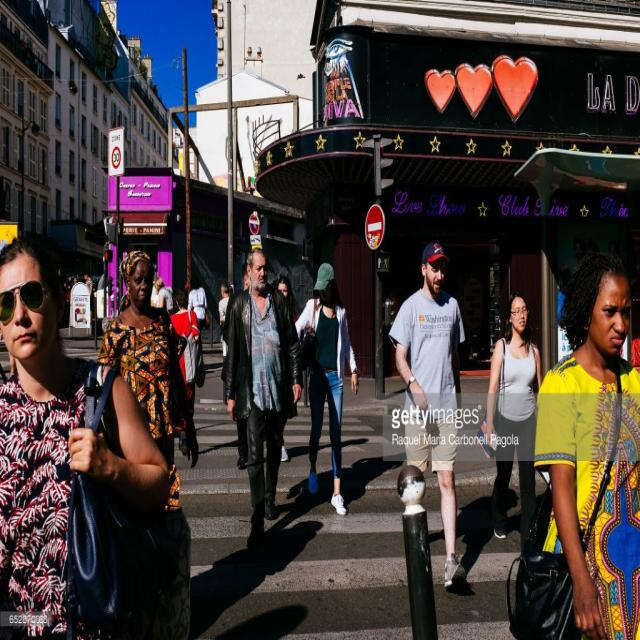body: (0, 235, 183, 640), (534, 250, 639, 639), (388, 240, 467, 587), (98, 249, 200, 510), (224, 246, 304, 551), (294, 262, 359, 516), (483, 290, 546, 542), (168, 286, 207, 459), (224, 260, 252, 470), (57, 264, 122, 339), (153, 276, 180, 354), (218, 278, 236, 368), (187, 272, 209, 332), (275, 273, 300, 324), (0, 341, 19, 386)
